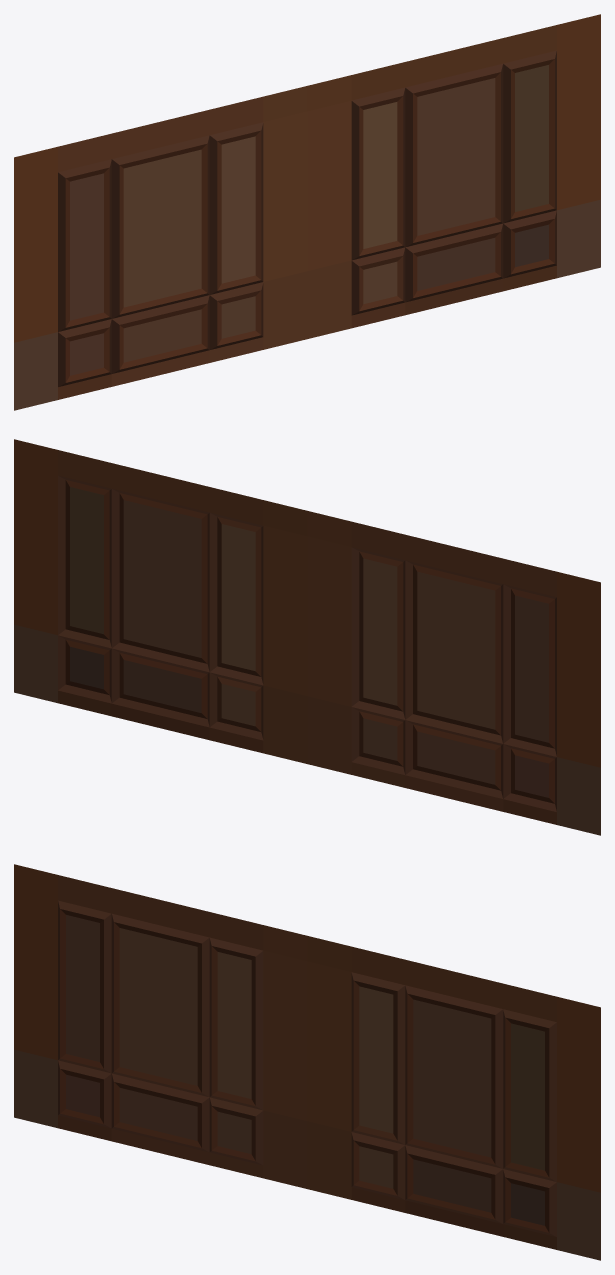
Rendered from Wall_HomeA-TypeD-6m.fbx.
The picture shows the model from 3 angles, top to bottom: view 1: azimuth 30°, elevation 25°; view 2: azimuth 150°, elevation 25°; view 3: azimuth 330°, elevation 25°; orthographic projection.
Parts seen in each view (by area): view 1: Wall_HomeA-TypeD-6m; view 2: Wall_HomeA-TypeD-6m; view 3: Wall_HomeA-TypeD-6m.
Part boxes in pixels (x1,y1,x2,y2): Wall_HomeA-TypeD-6m: [14, 14, 600, 410]; Wall_HomeA-TypeD-6m: [14, 439, 600, 835]; Wall_HomeA-TypeD-6m: [14, 864, 600, 1260].
Bounding box in the file's own units: 600 × 247 × 5.
